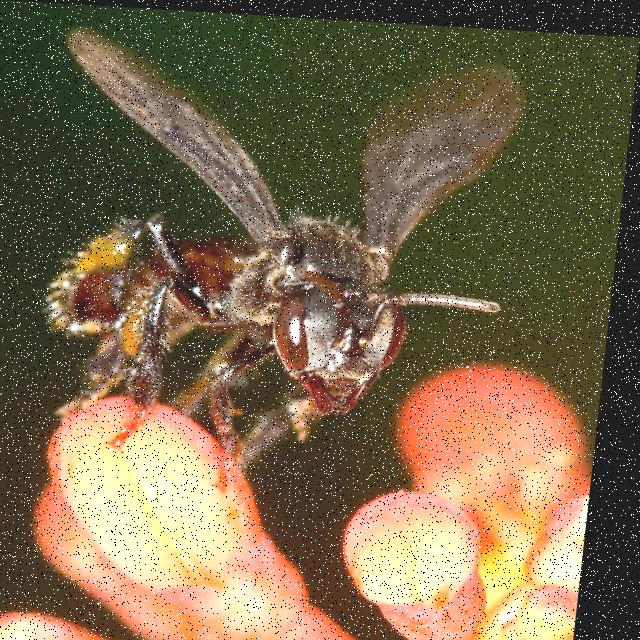Meliponula: (30, 13, 551, 479)
